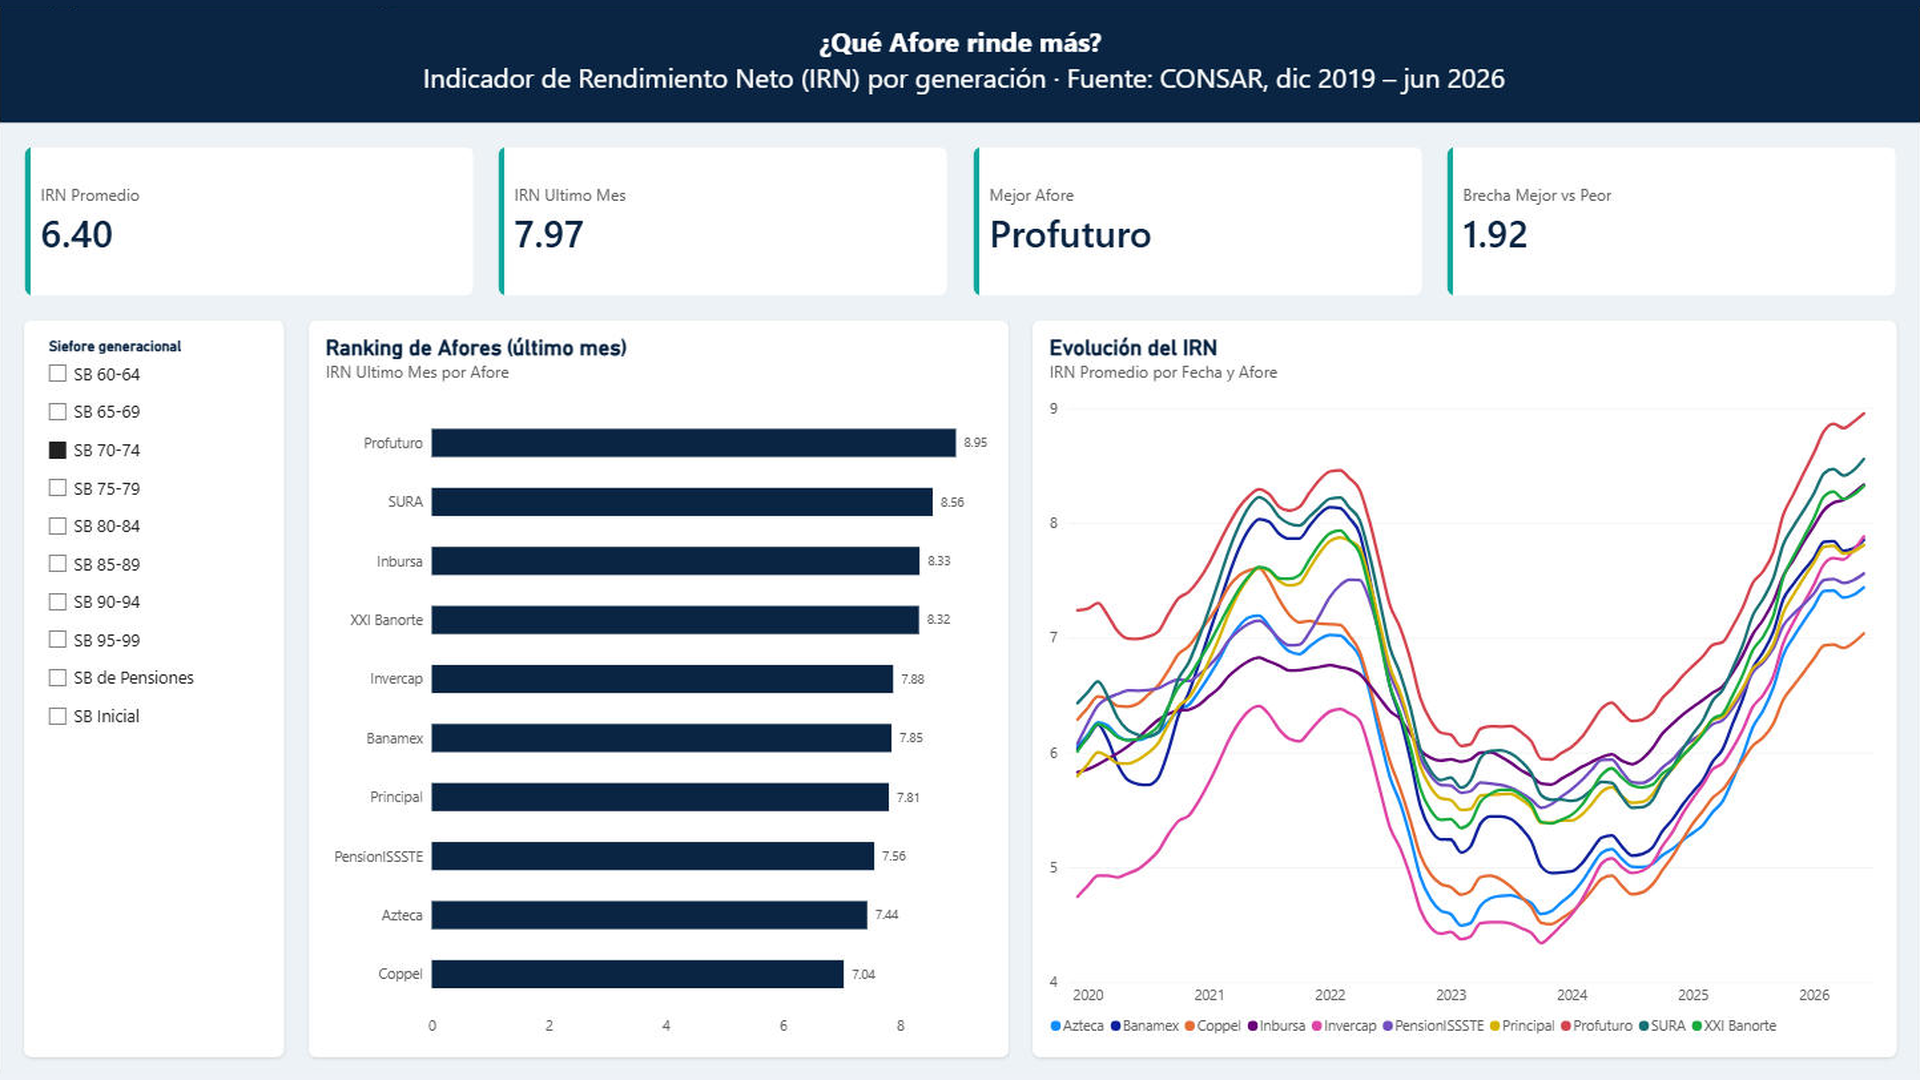

Layout of this report page (visuals, bound fields, positions):
{"tool":"powerbi","page":{"name":"Página 1","canvas":[1920,1080],"ordinal":0},"visuals":[{"type":"cardVisual","fields":{"Data":["Rendimientos.IRN Promedio"]},"box":[24,144,450,150],"z":0},{"type":"cardVisual","fields":{"Data":["Rendimientos.IRN Ultimo Mes"]},"box":[498,144,450,150],"z":1000},{"type":"cardVisual","fields":{"Data":["Rendimientos.Mejor Afore"]},"box":[972,144,450,150],"z":2000},{"type":"cardVisual","fields":{"Data":["Rendimientos.Brecha Mejor vs Peor"]},"box":[1446,144,450,150],"z":3000},{"type":"slicer","fields":{"Values":["Rendimientos.Siefore"]},"box":[24,318,260,738],"z":4000},{"type":"clusteredBarChart","title":"Ranking de Afores (último mes)","fields":{"Category":["Rendimientos.Afore"],"Y":["Rendimientos.IRN Ultimo Mes"]},"box":[308,318,700,738],"z":5000},{"type":"lineChart","title":"Evolución del IRN","fields":{"Category":["Rendimientos.Fecha"],"Series":["Rendimientos.Afore"],"Y":["Rendimientos.IRN Promedio"]},"box":[1032,318,864,738],"z":6000},{"type":"textbox","box":[0,0,1920,120],"z":7000}]}

Visuals, with their boxes in screenshot pixels (x1, y1, x2, y2), scaled from the page's 1920x1080 canvas onto the 1920x1080 screenshot:
cardVisual - Rendimientos.IRN Promedio: {"x1": 24, "y1": 144, "x2": 474, "y2": 294}
cardVisual - Rendimientos.IRN Ultimo Mes: {"x1": 498, "y1": 144, "x2": 948, "y2": 294}
cardVisual - Rendimientos.Mejor Afore: {"x1": 972, "y1": 144, "x2": 1422, "y2": 294}
cardVisual - Rendimientos.Brecha Mejor vs Peor: {"x1": 1446, "y1": 144, "x2": 1896, "y2": 294}
slicer - Rendimientos.Siefore: {"x1": 24, "y1": 318, "x2": 284, "y2": 1056}
"Ranking de Afores (último mes)" clusteredBarChart: {"x1": 308, "y1": 318, "x2": 1008, "y2": 1056}
"Evolución del IRN" lineChart: {"x1": 1032, "y1": 318, "x2": 1896, "y2": 1056}
textbox: {"x1": 0, "y1": 0, "x2": 1919, "y2": 120}
